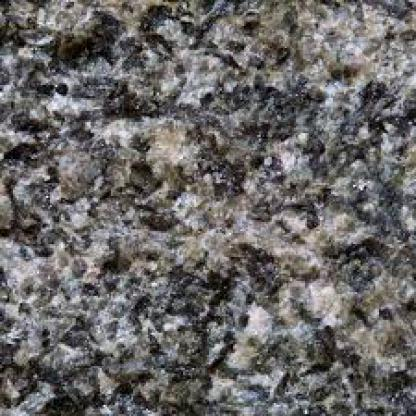Igneous_Diorite: (4, 2, 414, 414)
